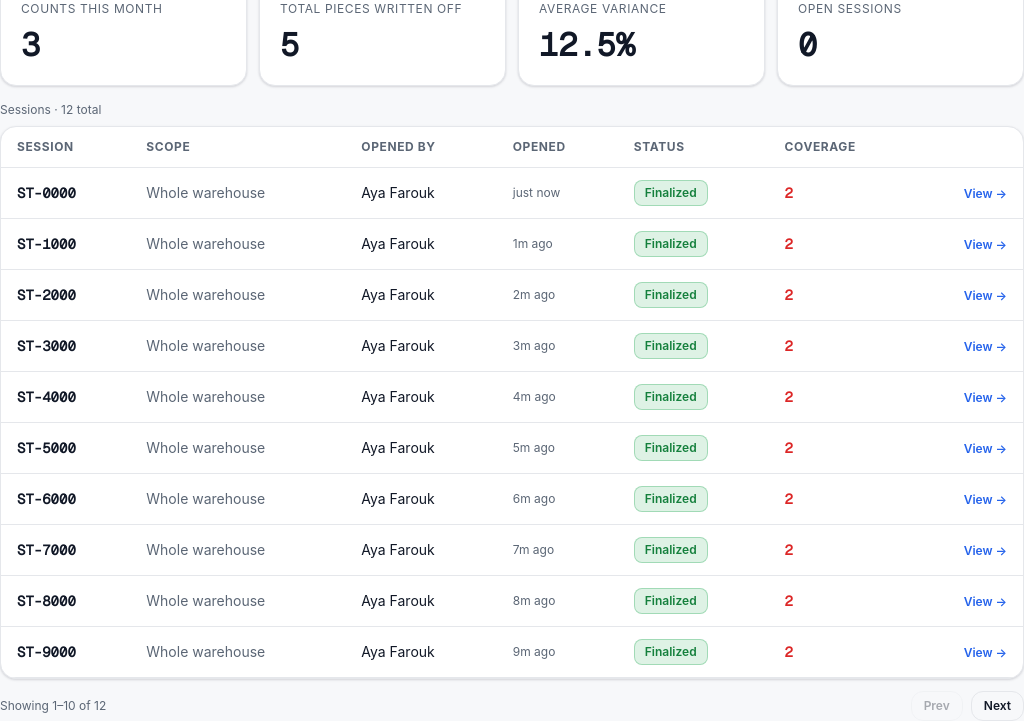
Scenario: FR-21 Stock-take landing (Returns-pattern restyle) › st9 — pagination slices the fetched list, Next/Prev navigate pages
(page scrolled)
Expected: the text "Showing 1–10 of 12" is shown, [0,698,106,714]
Click the button "Next": x=997, y=706 [971,691,1023,720]
(page scrolled)
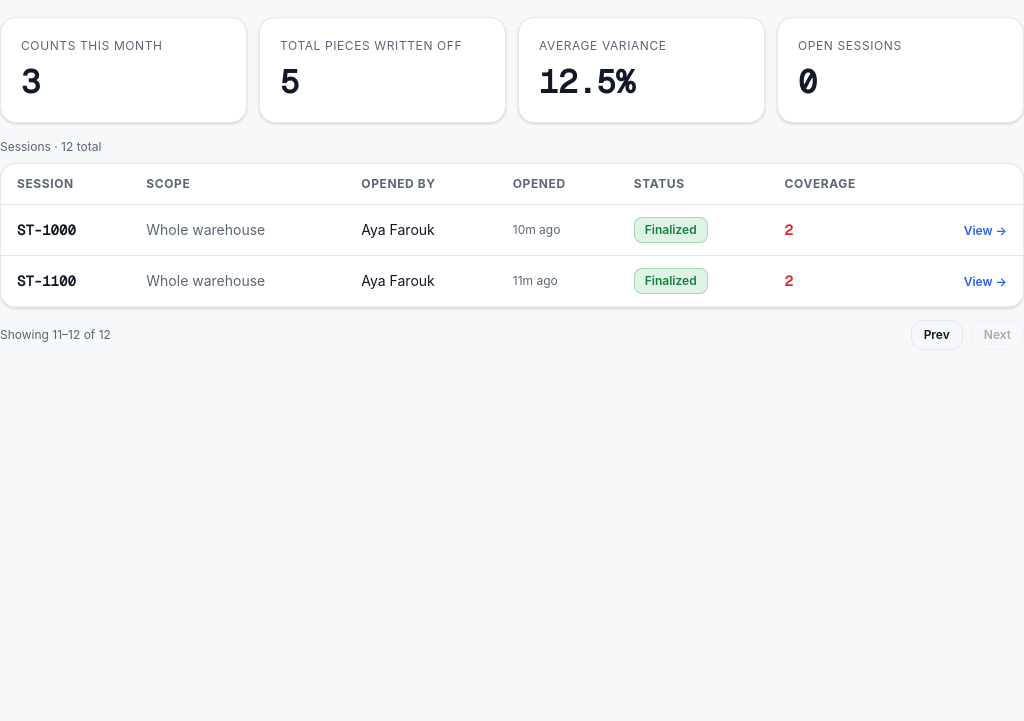
Now the text "Showing 11–12 of 12" is shown, box [0,327,111,343]
Now the text "ST-1000" is shown 2 times, box [1,204,130,256]; [1,256,130,306]
